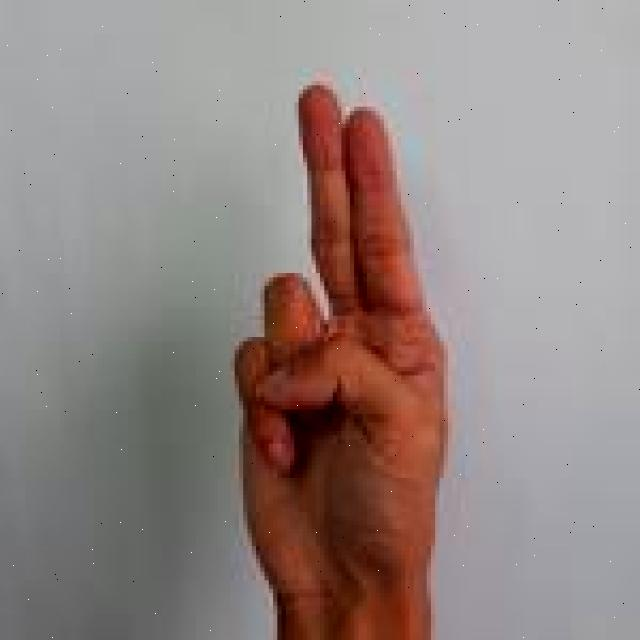U: (231, 76, 458, 640)
